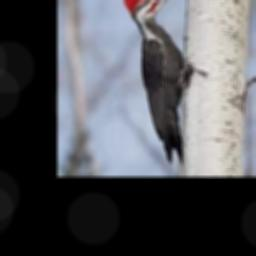Woodpecker: (124, 0, 191, 166)
